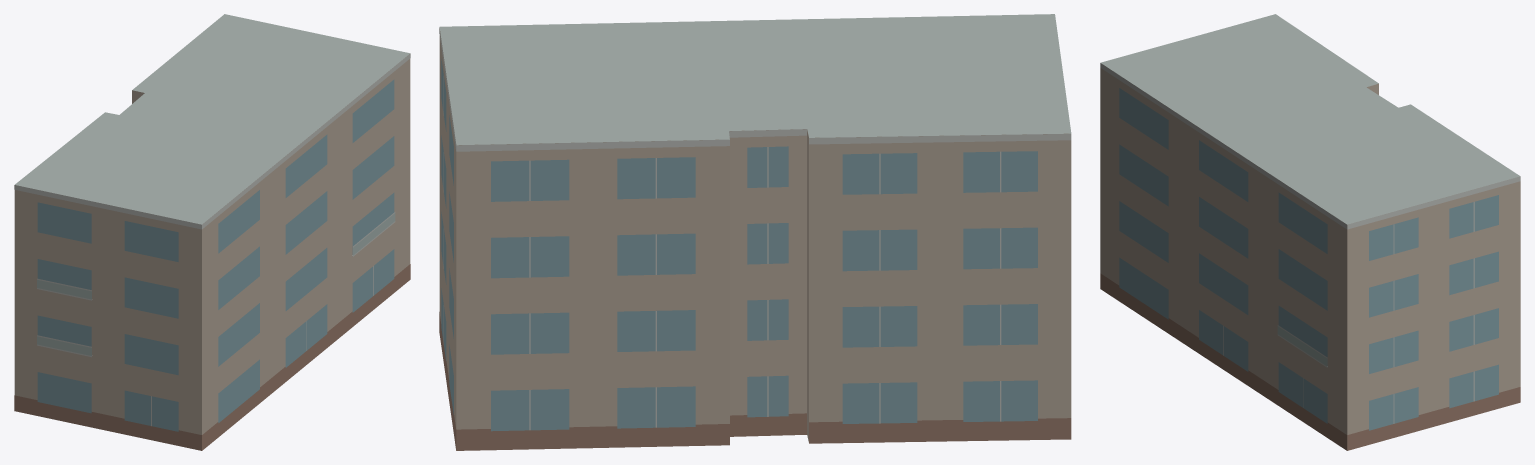
Rendered from survey-upis-32656178.glb.
3 renders of one model, left to right at view 1: azimuth 30°, elevation 25°; view 2: azimuth 150°, elevation 25°; view 3: azimuth 270°, elevation 25°, orthographic. The views are drawn at different scales.
Parts seen in each view (by area): view 1: survey-upis-32656178.tmp; view 2: survey-upis-32656178.tmp; view 3: survey-upis-32656178.tmp.
Boxes of the visible parts, x1,y1,x2,y2 form: survey-upis-32656178.tmp: (14, 14, 410, 450); survey-upis-32656178.tmp: (439, 14, 1071, 450); survey-upis-32656178.tmp: (1100, 14, 1520, 450).
Bounding box in the file's own units: 22.58 × 11.3 × 19.04.
